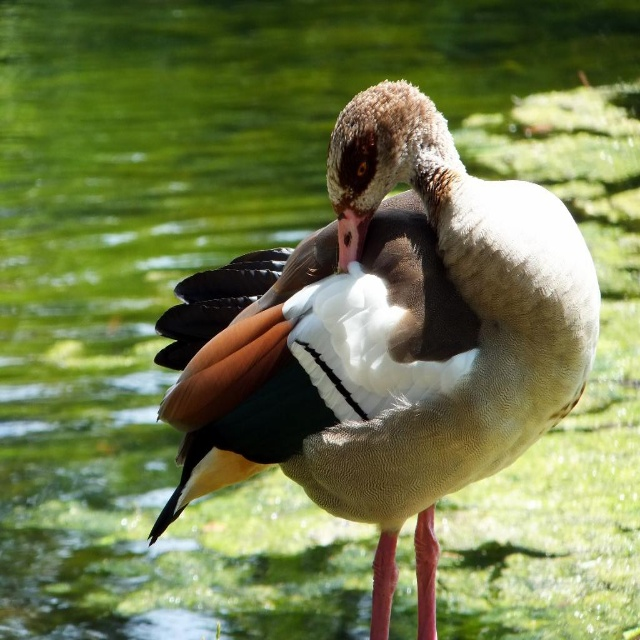Goose: (143, 74, 608, 639)
